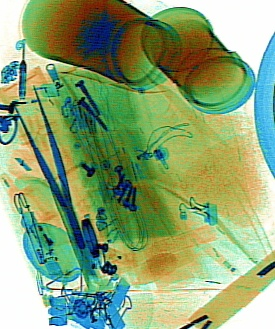lighter: (19, 209, 74, 263)
